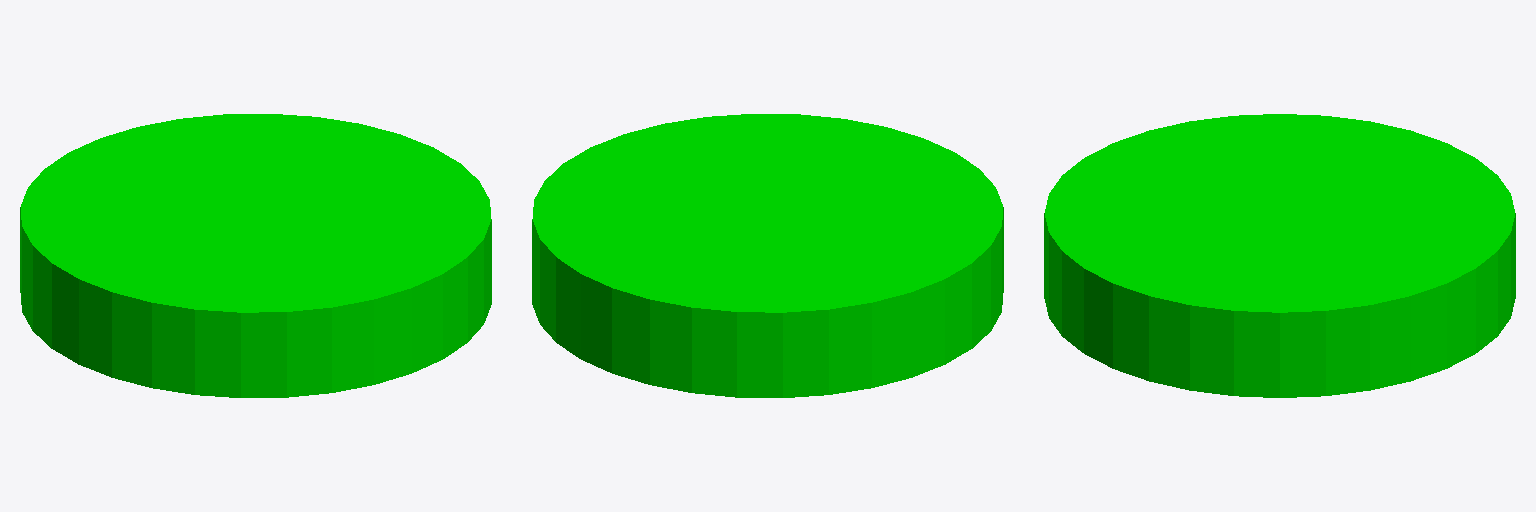
URDF robot description (simplegoal):
<?xml version="1.0"?> 
<robot name="simplegoal">
    <!-- Colors --> 
    <material name="green">
        <color rgba="0 0.925 0 1"/>
    </material>

    <!-- Goal -->
    <link name="base_link">
        <visual>
            <geometry>
                <cylinder radius="0.025" length="0.01"/>
                <origin rpy="0 0 0" xyz="0 0 0.5"/>
            </geometry>
            <material name="green"/>
        </visual>
        <!-- <collision> 
             <geometry> 
                <cylinder radius="0.025" length="0.01"/>
                <origin rpy="0 0 0" xyz="0 0 0.25"/>
            </geometry>
        </collision> --> 
        <inertial> 
            <mass value="0"/>
            <inertia ixx="0" ixy="0" ixz="0" iyy="0" iyz="0" izz="0"/>
        </inertial> 
    </link>
</robot>

--- Facts derived from the render (not from the file) ---
Views: 3 orthographic renders of the robot side by side, from view 1: azimuth 30°, elevation 25°; view 2: azimuth 150°, elevation 25°; view 3: azimuth 270°, elevation 25°.
Model simplegoal with 1 links and 0 joints (none), rooted at base_link, posed every joint at zero.
Links seen in each view (by area): view 1: base_link; view 2: base_link; view 3: base_link.
Link boxes in pixels (box(x1,y1,x2,y2)): base_link: box(20, 114, 491, 397); base_link: box(532, 114, 1003, 397); base_link: box(1044, 114, 1515, 397).
Bounding box of the posed robot: 0.05 × 0.05 × 0.01 m (x, y, z).
Geometry: primitives only (box / cylinder / sphere), no mesh files.